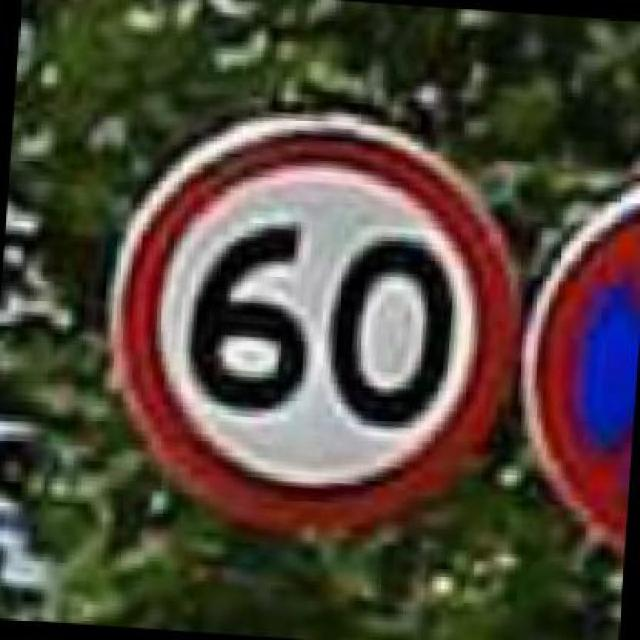Limite-60: (108, 117, 518, 538)
